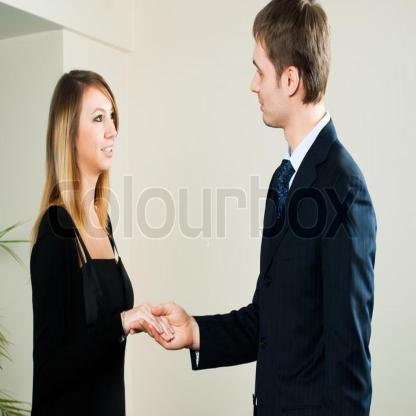face: (251, 24, 284, 131), (81, 85, 119, 171)
